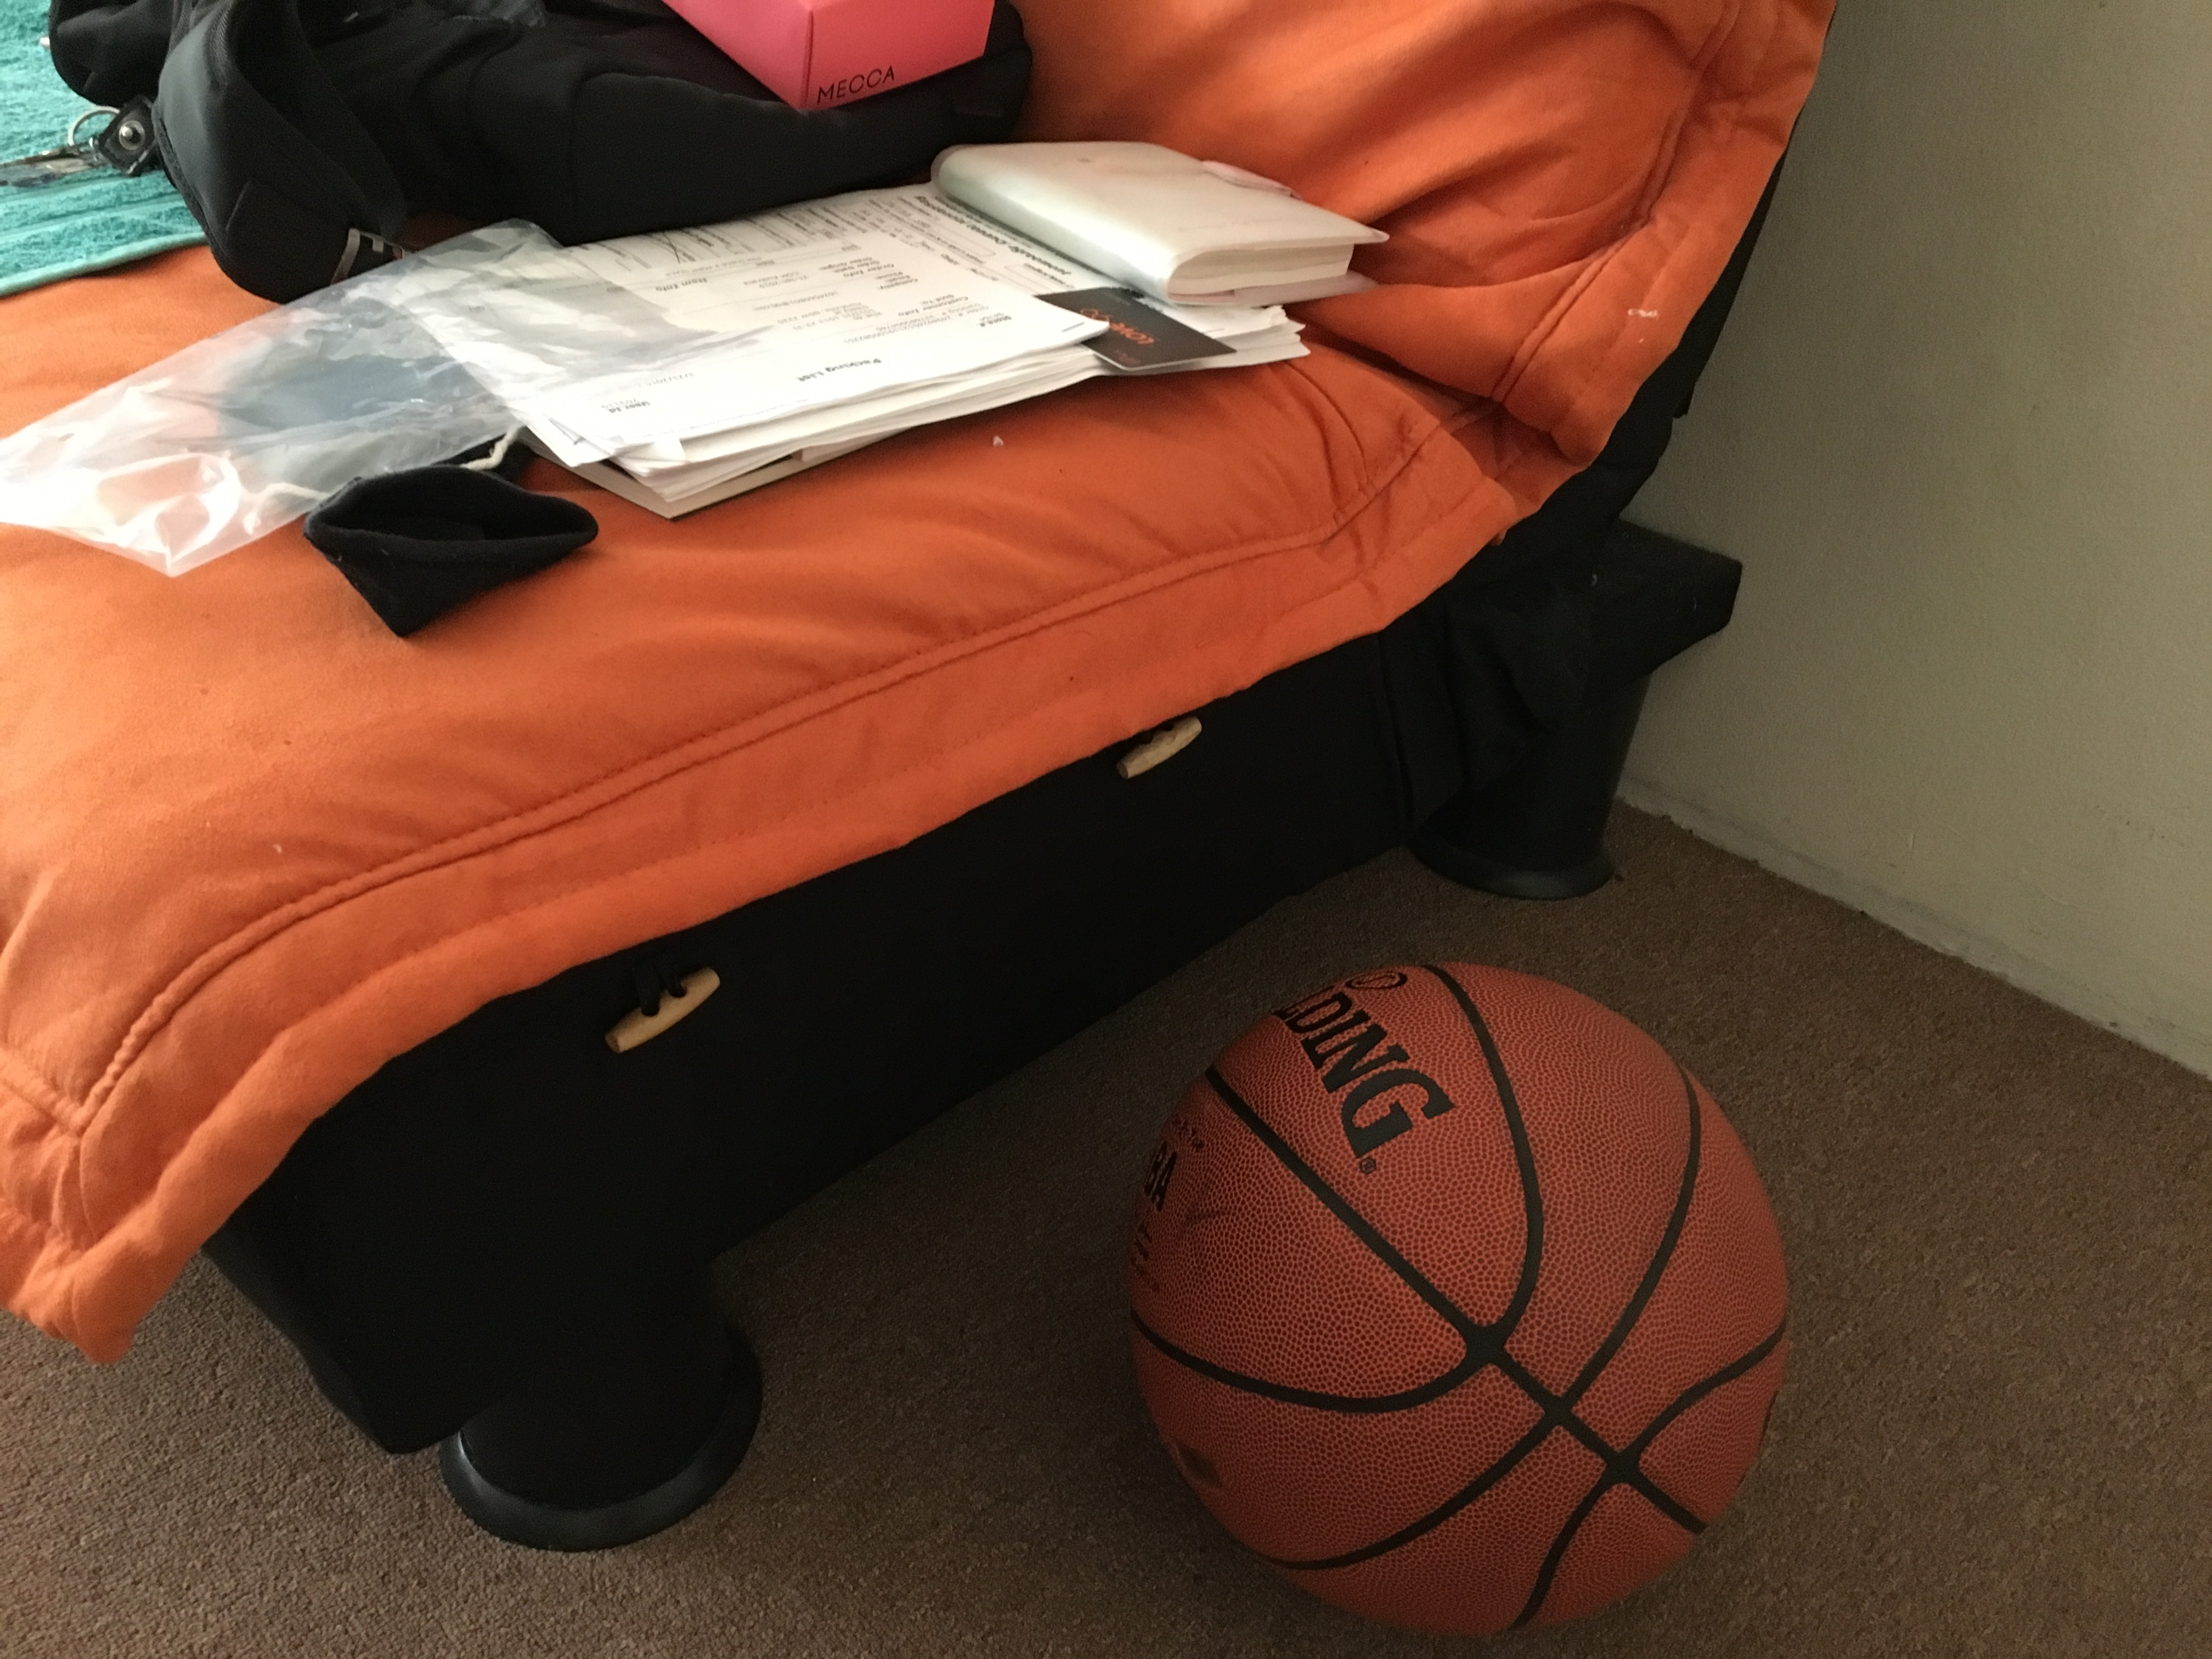Basketball: (1101, 964, 1796, 1640)
